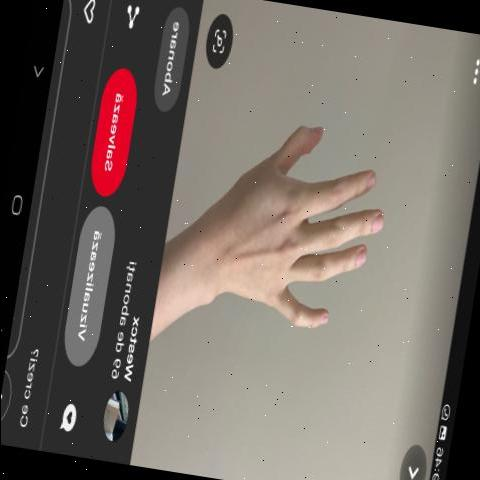Hands: (212, 105, 436, 389)
